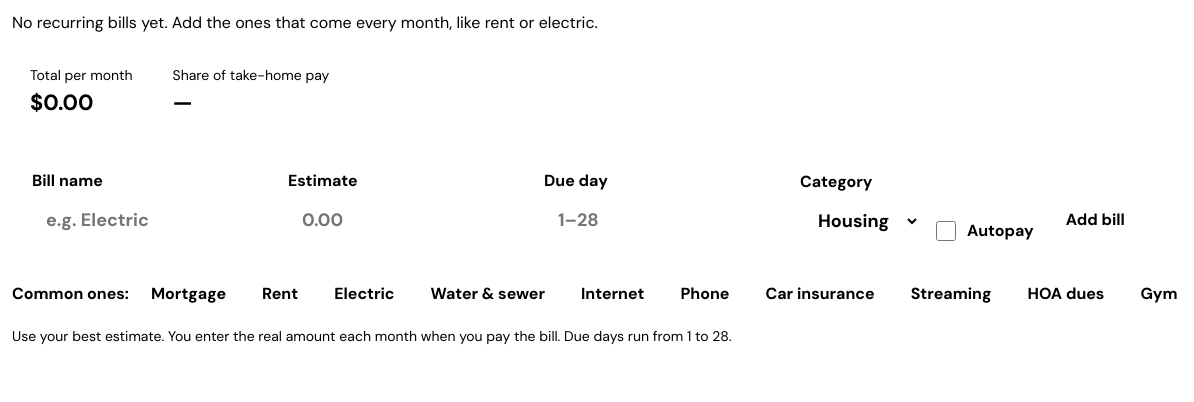
it: P1-12 recurring bills step › due day 1–28 only: 29 is refused with a message
Type "Gym" into the field labelled "Bill name" at x=154, y=220, box [32,197,276,244]
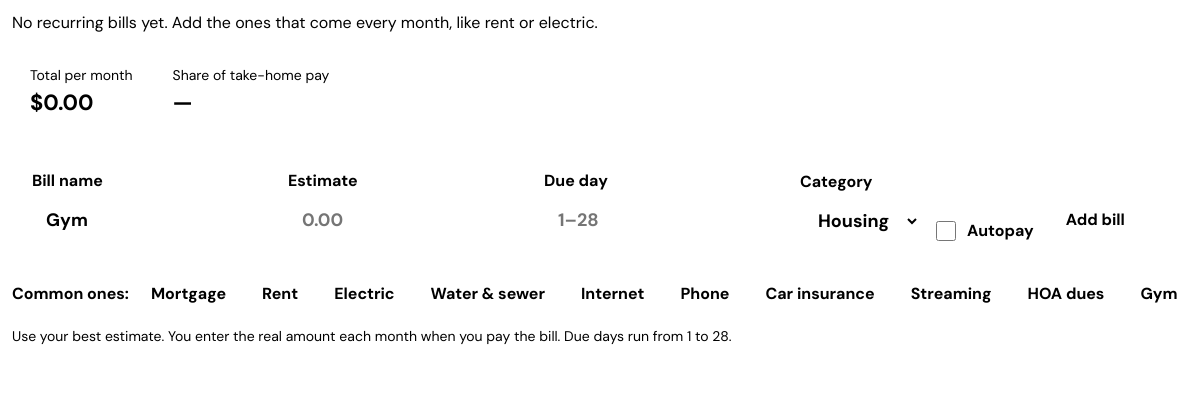
Type "30" into the field labelled "Estimate" at x=410, y=220, box [288,197,532,244]
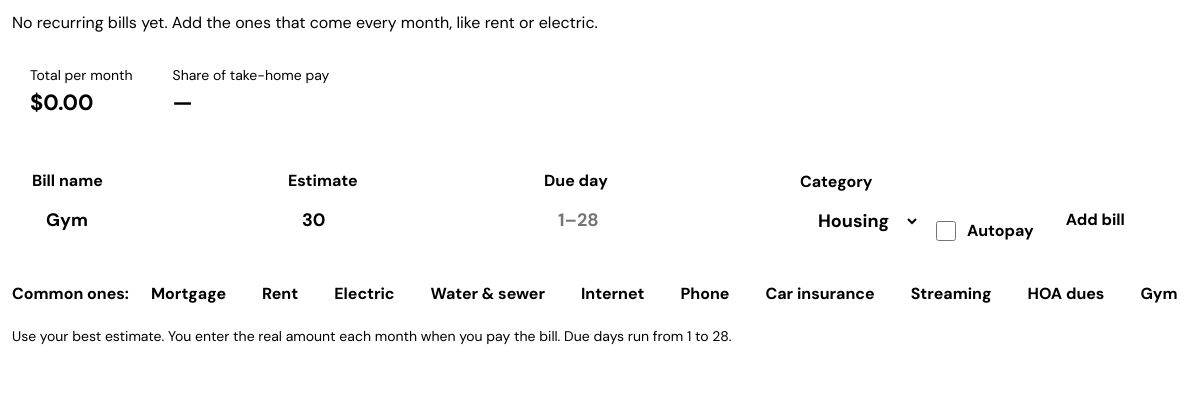
Type "29" into the field labelled "Due day" at x=666, y=220, box [544,197,788,244]
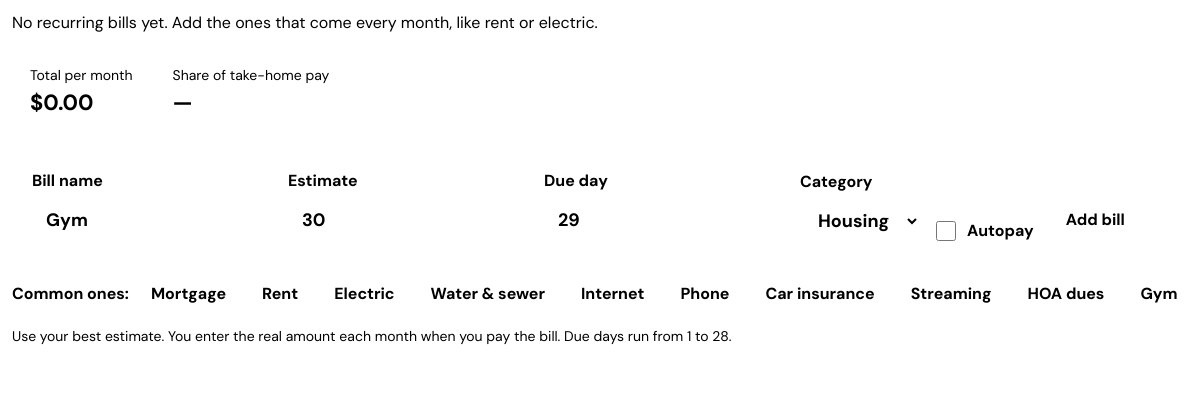
Click the button "Add bill" at x=1095, y=220, box [1046,196,1145,244]
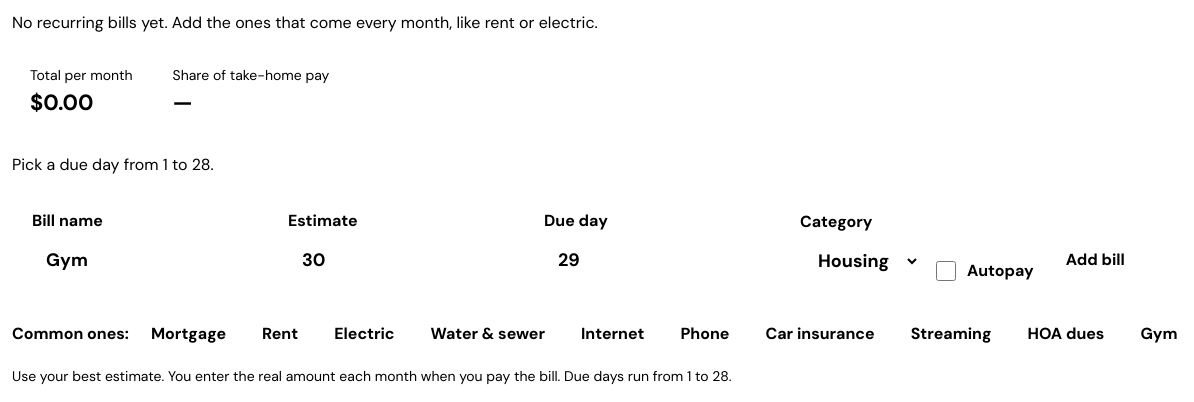
Now the message reads "Pick a due day from 1 to 28.", box [12,154,214,175]
